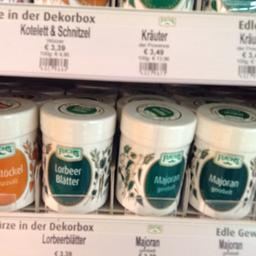spices: (116, 98, 196, 214), (38, 96, 116, 211), (186, 100, 255, 214), (0, 96, 37, 210)
